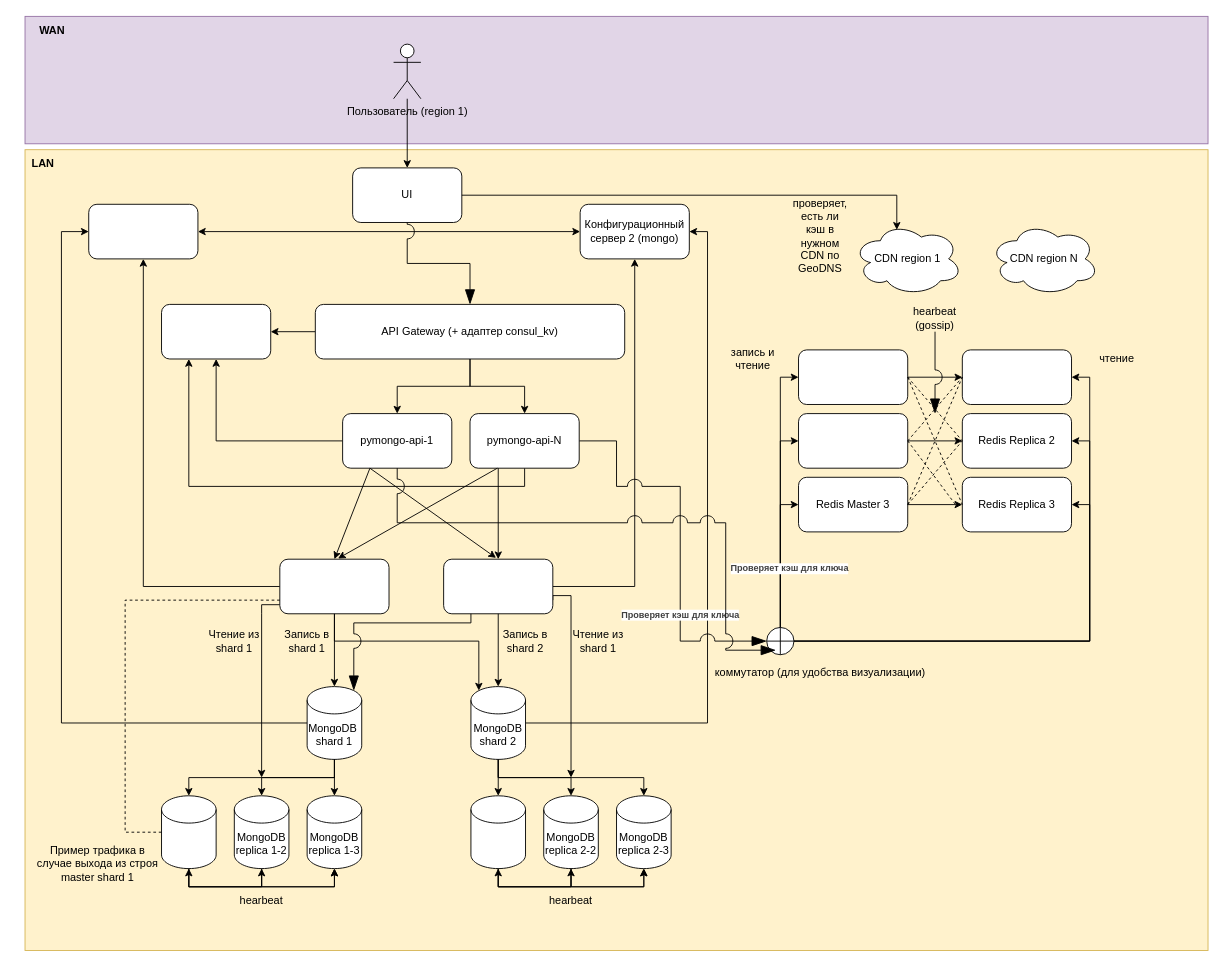
This 1224x966 diagram has some shape labels left out. Here are the shapes that lost their labels. From the top down, the centre of each, then its label:
At (x=143, y=231): "Конфигурационный сервер 1 (mongo)".
At (x=216, y=331): "Consul (service registry)".
At (x=853, y=376): "Redis Master 1".
At (x=1016, y=376): "Redis Replica 1".
At (x=853, y=440): "Redis Master 2".
At (x=334, y=586): "Роутер 1".
At (x=498, y=586): "Роутер 2".
At (x=188, y=832): "MongoDB replica 1-1".
At (x=498, y=832): "MongoDB replica 2-1".
